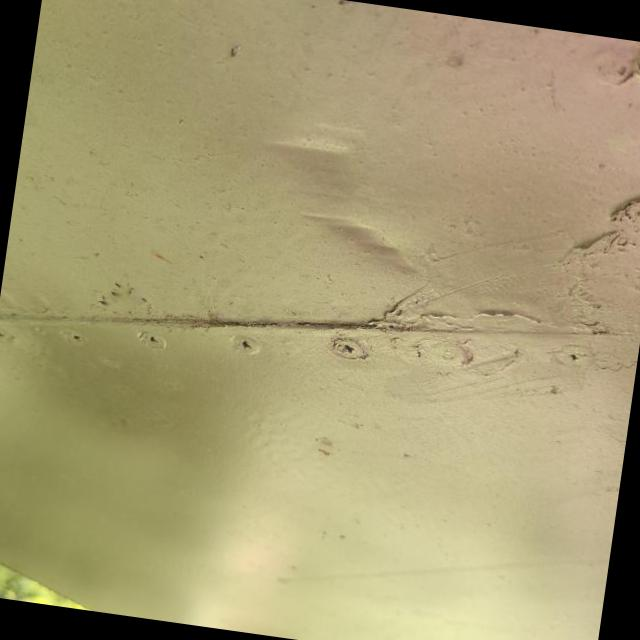Dent: (259, 98, 452, 310)
